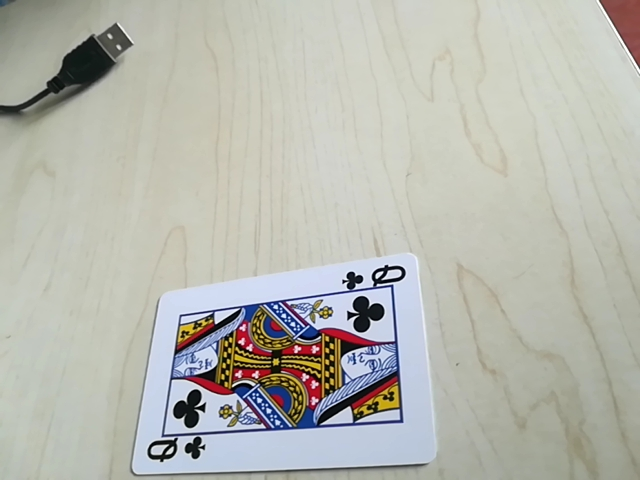mh q: (142, 433, 206, 469), (342, 260, 409, 292)
